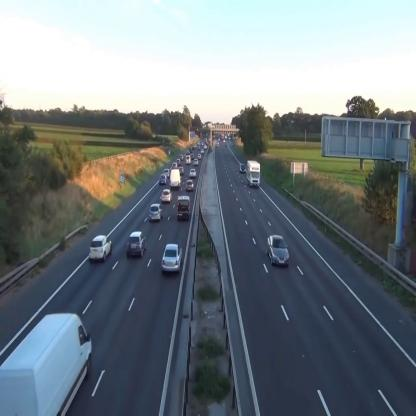car: (0, 312, 91, 416), (266, 235, 289, 267), (161, 243, 182, 275), (89, 236, 112, 262), (127, 231, 147, 258), (149, 203, 163, 221), (161, 188, 172, 202), (160, 174, 168, 185), (186, 180, 194, 190), (189, 168, 196, 177), (240, 163, 246, 173), (186, 155, 190, 163), (194, 158, 198, 165)
lorry: (248, 160, 260, 188), (178, 196, 190, 219), (170, 169, 180, 188)
